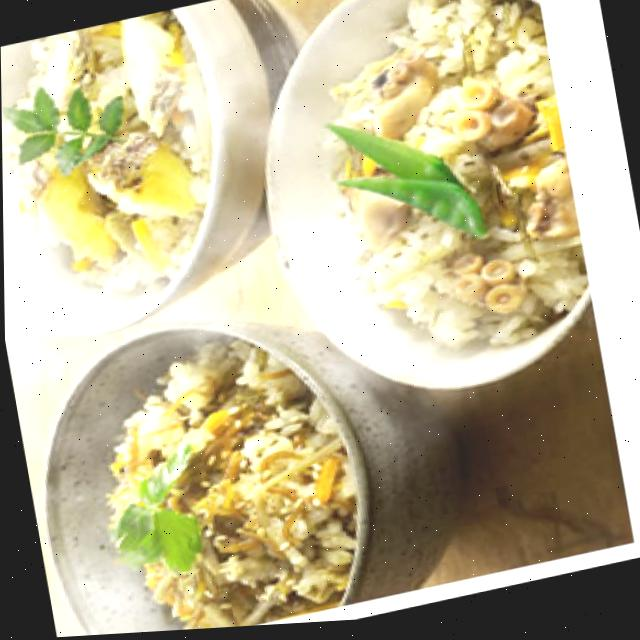米饭主食: (305, 0, 639, 371), (85, 311, 380, 636), (0, 10, 207, 299)
